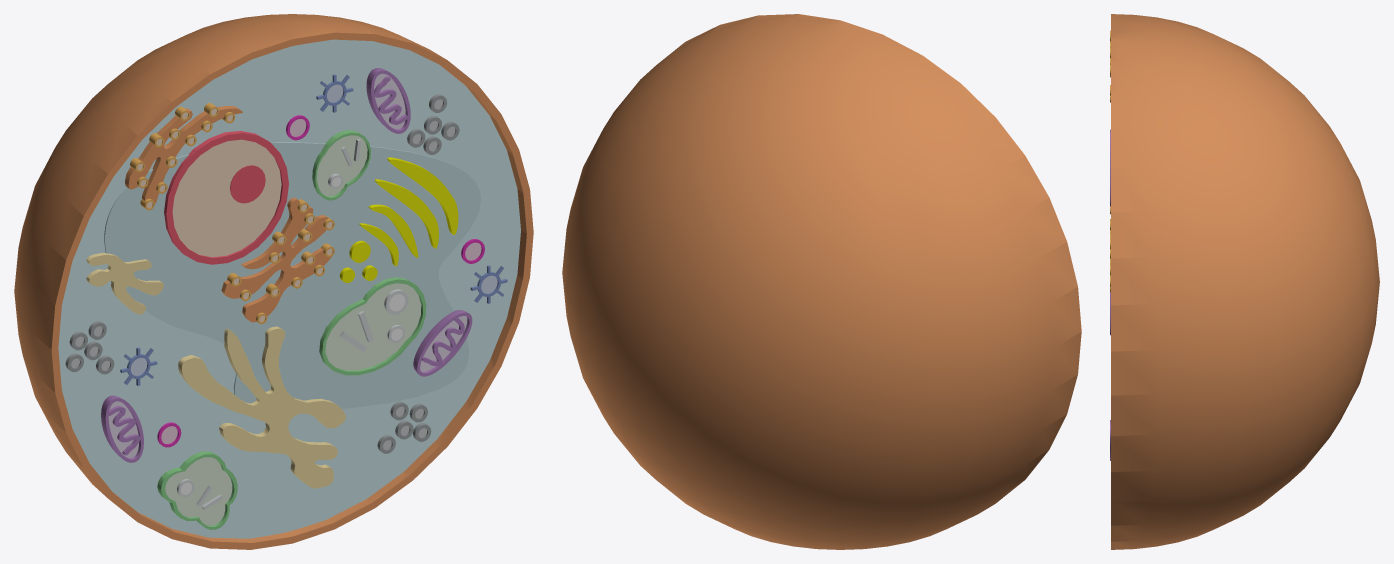
Rendered from animal_cell.glb.
The picture shows the model from 3 angles, left to right: view 1: azimuth 30°, elevation 25°; view 2: azimuth 150°, elevation 25°; view 3: azimuth 270°, elevation 25°; orthographic projection. The views are drawn at different scales.
Visible parts, largest first — view 1: Mesh_Mesh_head_geo.001_lambert2SG.001_0; view 2: Mesh_Mesh_head_geo.001_lambert2SG.001_0; view 3: Mesh_Mesh_head_geo.001_lambert2SG.001_0.
Part boxes in pixels (x1,y1,x2,y2): Mesh_Mesh_head_geo.001_lambert2SG.001_0: (14, 14, 533, 549); Mesh_Mesh_head_geo.001_lambert2SG.001_0: (562, 14, 1081, 549); Mesh_Mesh_head_geo.001_lambert2SG.001_0: (1110, 14, 1379, 549).
Size of the model in its own units: 150 by 150 by 75.25.
